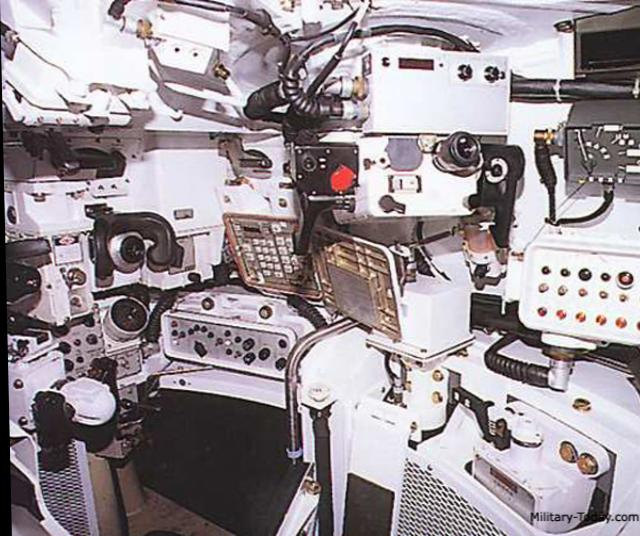tank: (3, 1, 640, 533)
